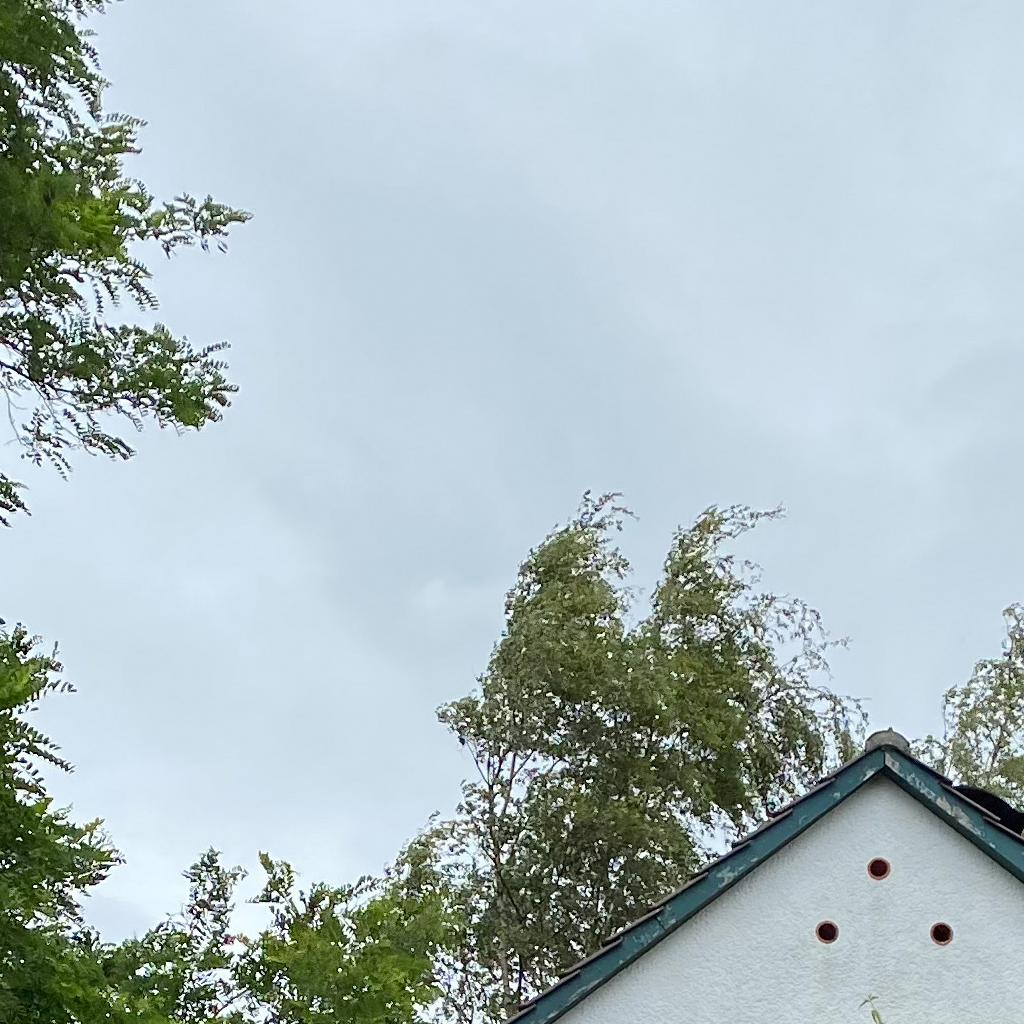tree: (1, 1, 473, 1024), (383, 490, 1024, 1024)
